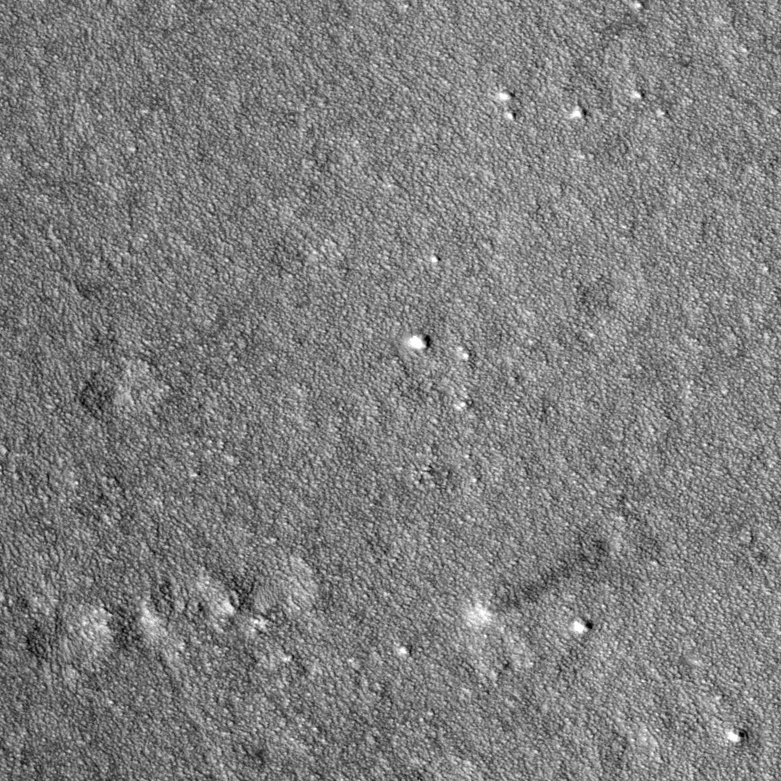dust_devil: (463, 531, 615, 630)
